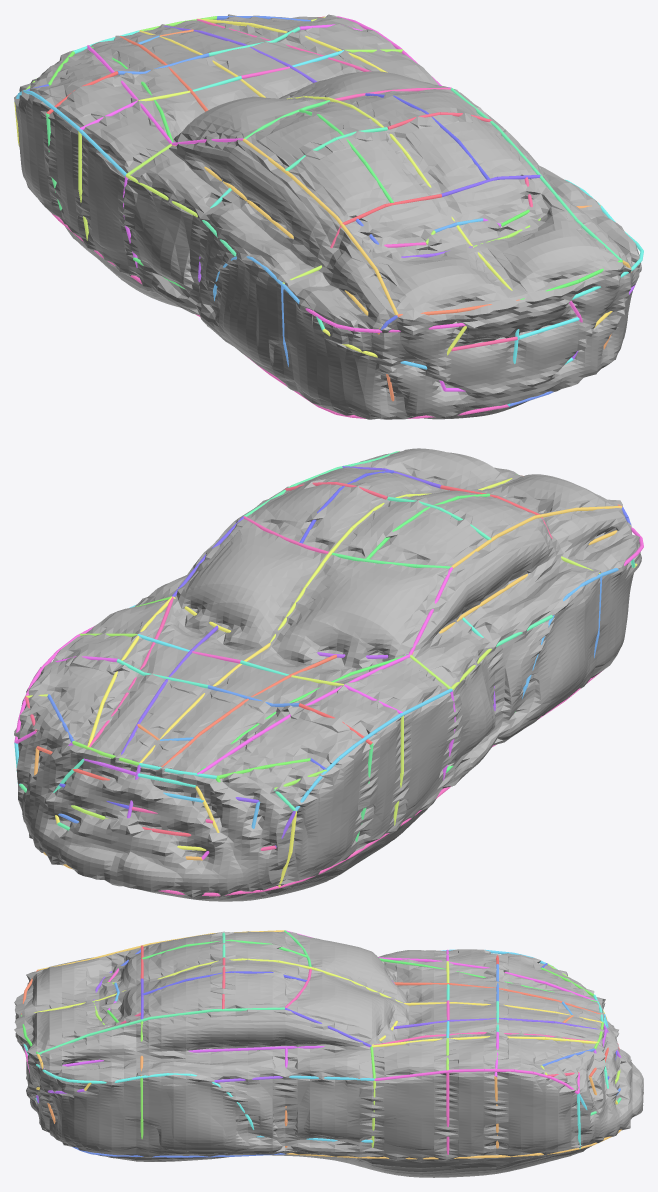
File: ils_car5.gltf
3 renders of one model, top to bottom at view 1: azimuth 30°, elevation 25°; view 2: azimuth 150°, elevation 25°; view 3: azimuth 270°, elevation 25°, orthographic. The views are drawn at different scales.
Size of the model in its own units: 0.4236 by 0.3141 by 0.9019.
